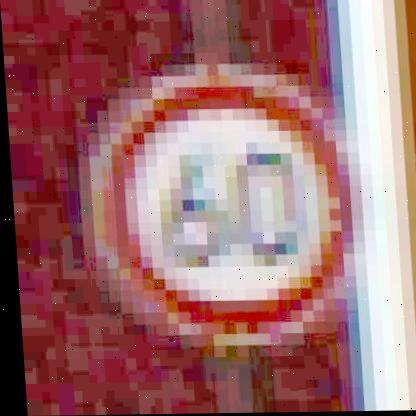Speed Limit -60-: (78, 66, 362, 348)
